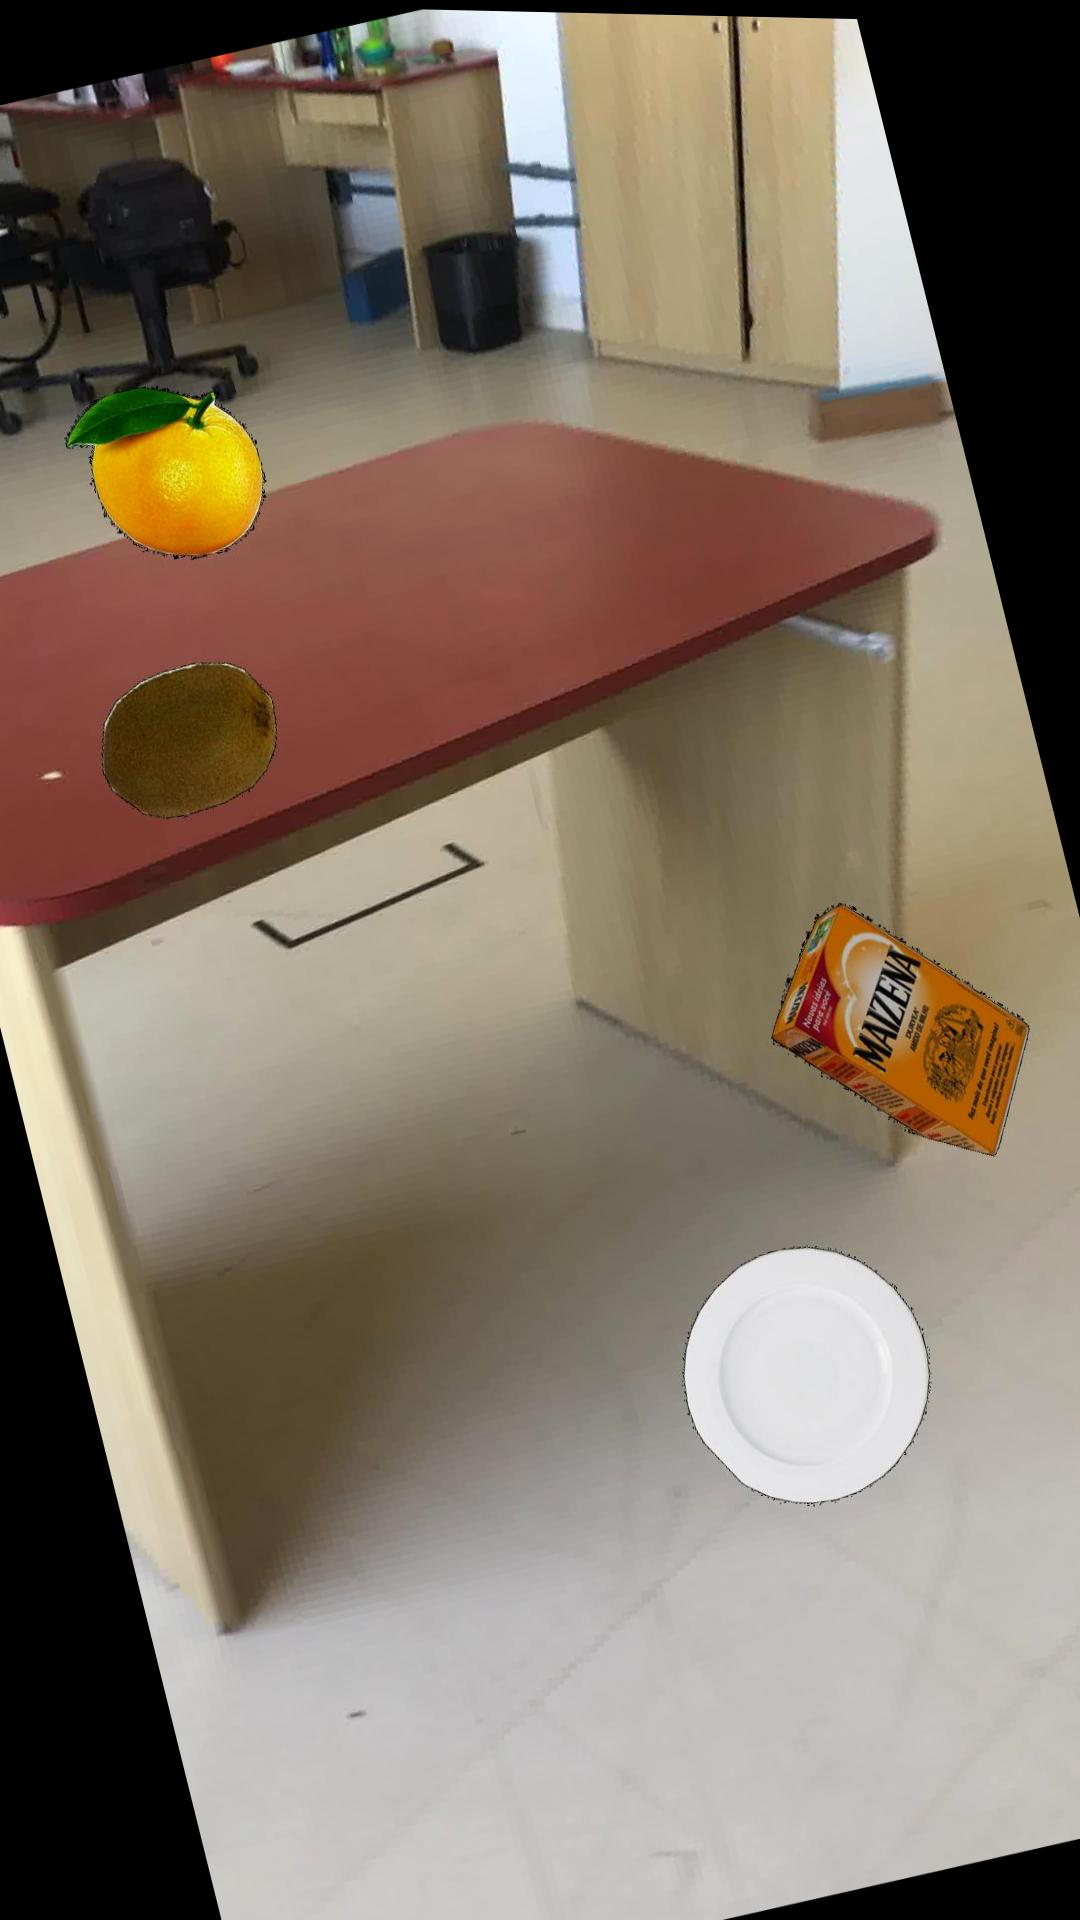kiwi: (103, 661, 278, 816)
orange: (67, 384, 268, 558)
plate: (683, 1241, 931, 1498)
